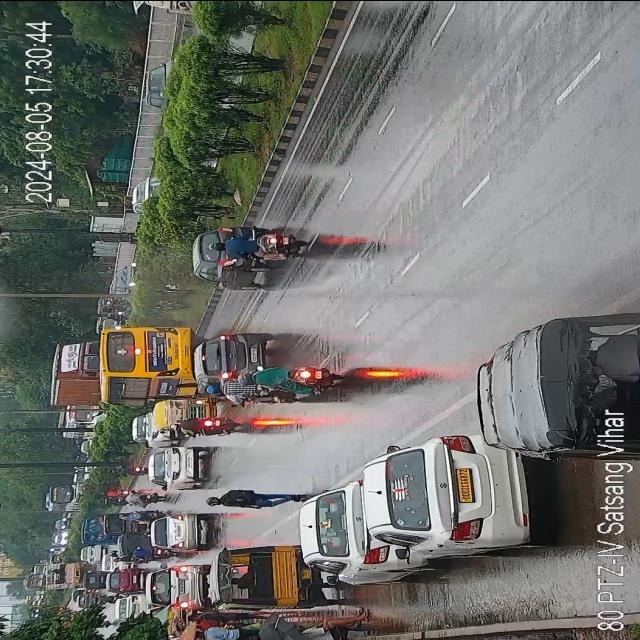2-wheelers: (208, 232, 303, 260), (240, 364, 334, 389), (202, 382, 284, 407), (172, 416, 240, 436), (119, 493, 163, 505), (112, 465, 146, 477), (100, 490, 134, 496), (102, 497, 130, 503)
auto: (214, 548, 332, 608), (156, 394, 218, 428), (100, 510, 139, 536), (122, 532, 150, 556), (82, 570, 106, 586)
bus: (94, 328, 190, 408)
car: (358, 444, 527, 554), (290, 490, 414, 584), (192, 220, 260, 286), (193, 330, 272, 384), (144, 562, 212, 606), (152, 510, 210, 554), (153, 449, 207, 489), (138, 61, 174, 112), (131, 176, 157, 216), (137, 416, 171, 442), (114, 594, 148, 616), (78, 546, 106, 562)
pedestrian: (282, 609, 372, 640), (204, 486, 302, 508), (185, 626, 261, 640), (182, 610, 262, 623), (192, 618, 258, 632)
truck: (48, 344, 106, 403), (44, 561, 82, 590), (46, 482, 80, 512)
